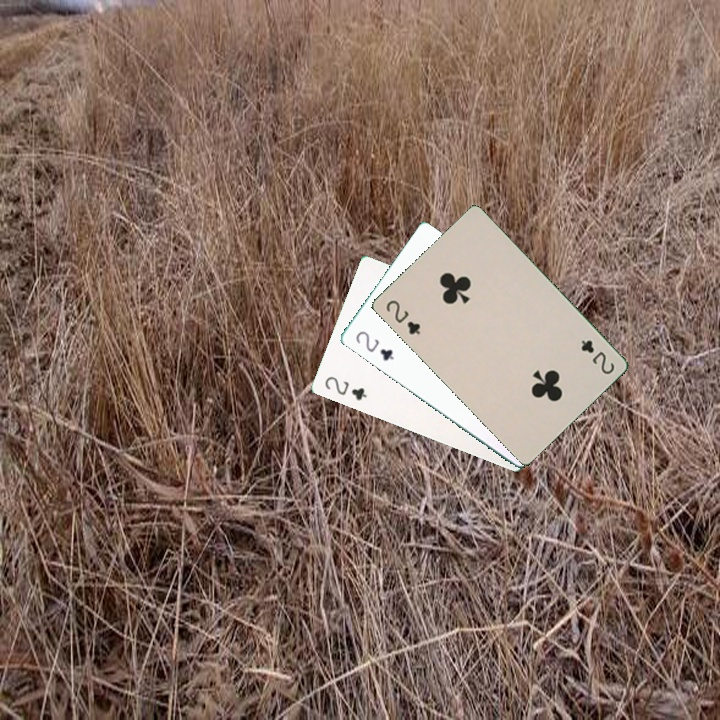2c: (382, 296, 423, 337), (577, 336, 617, 377), (352, 327, 396, 364), (321, 372, 370, 403)
